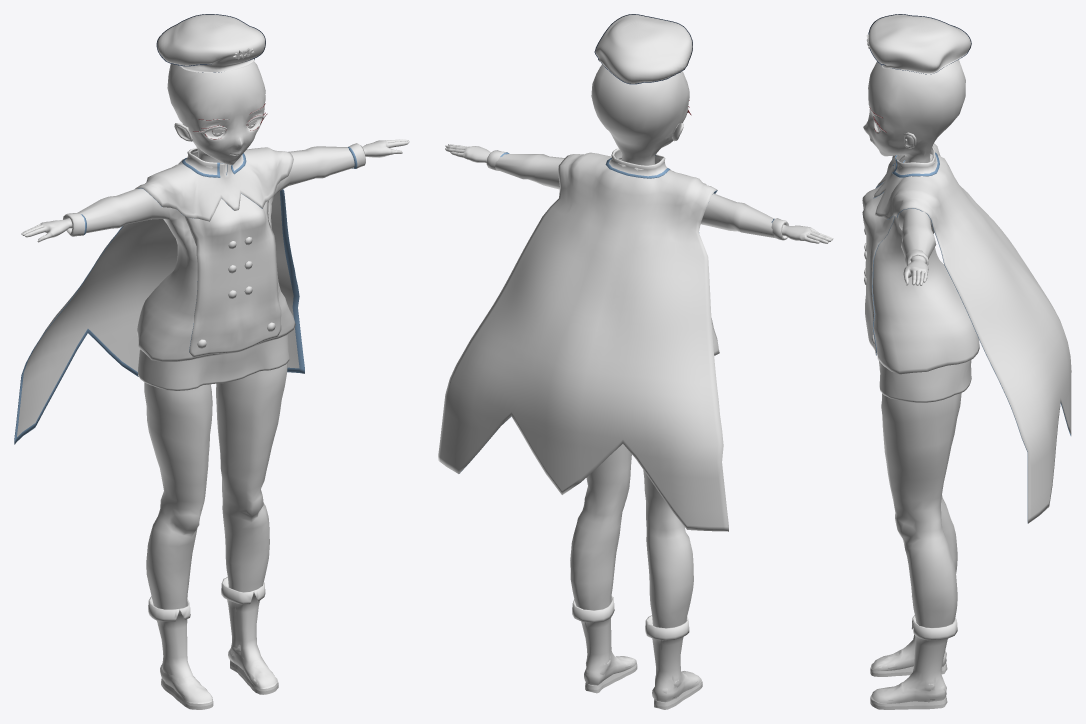
Rendered from Kuro Figure Mixamo try4.fbx.
The picture shows the model from 3 angles, left to right: view 1: azimuth 30°, elevation 25°; view 2: azimuth 150°, elevation 25°; view 3: azimuth 270°, elevation 25°; orthographic projection.
Visible parts, largest first — view 1: Body; view 2: Body; view 3: Body.
Boxes of the visible parts, <box> form: Body: <box>14,14,409,709</box>; Body: <box>438,14,833,709</box>; Body: <box>862,14,1071,709</box>.
Bounding box in the file's own units: 77.5 × 127 × 36.2.
